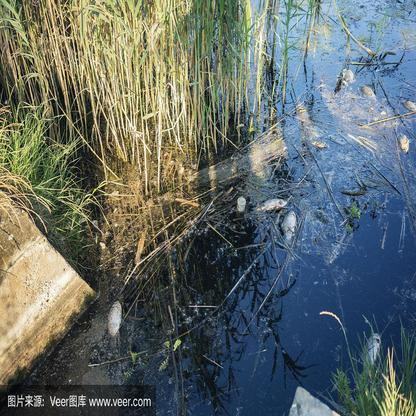deceased fish: (106, 298, 124, 340), (281, 209, 299, 244), (253, 198, 288, 210)
